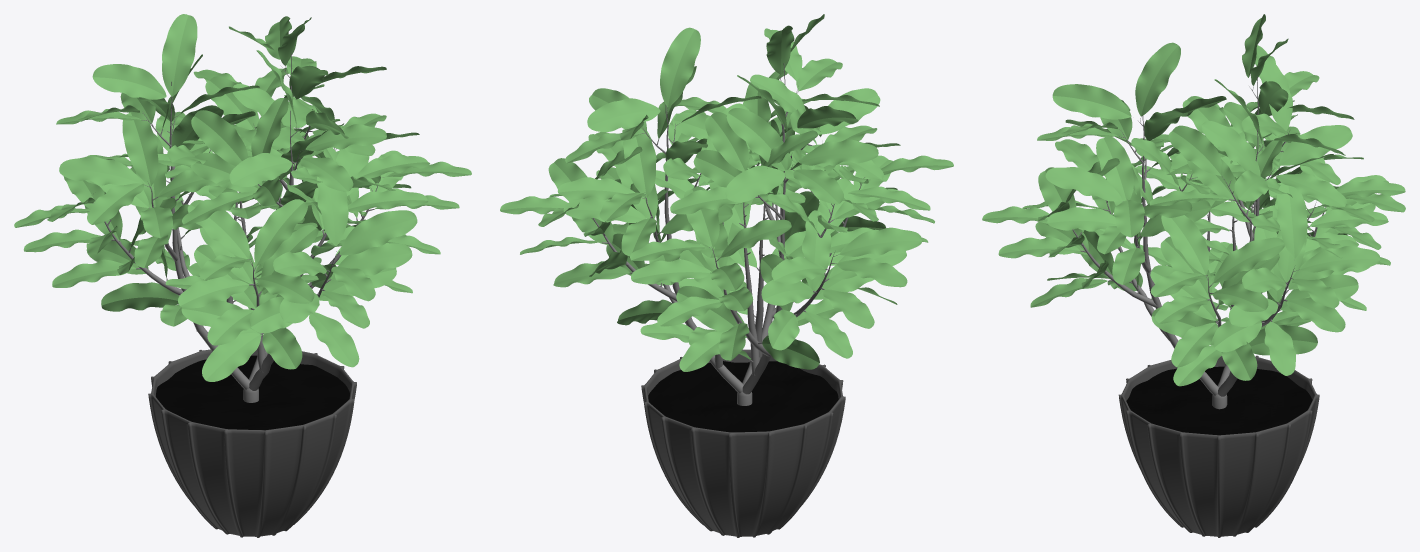
File: Coffea arabica.FBX
3 renders of one model, left to right at view 1: azimuth 30°, elevation 25°; view 2: azimuth 150°, elevation 25°; view 3: azimuth 270°, elevation 25°, orthographic. The views are drawn at different scales.
Parts seen in each view (by area): view 1: Coffea arabica, vase, soil; view 2: Coffea arabica, vase, soil; view 3: Coffea arabica, vase, soil.
Part boxes in pixels (x1,y1,x2,y2): Coffea arabica: (14, 14, 471, 402); vase: (148, 349, 356, 537); soil: (156, 355, 349, 430); Coffea arabica: (500, 14, 953, 405); vase: (641, 349, 845, 537); soil: (648, 361, 838, 432); Coffea arabica: (982, 14, 1405, 409); vase: (1118, 355, 1319, 537); soil: (1126, 366, 1312, 435).
Size of the model in its own units: 759 by 910 by 745.
